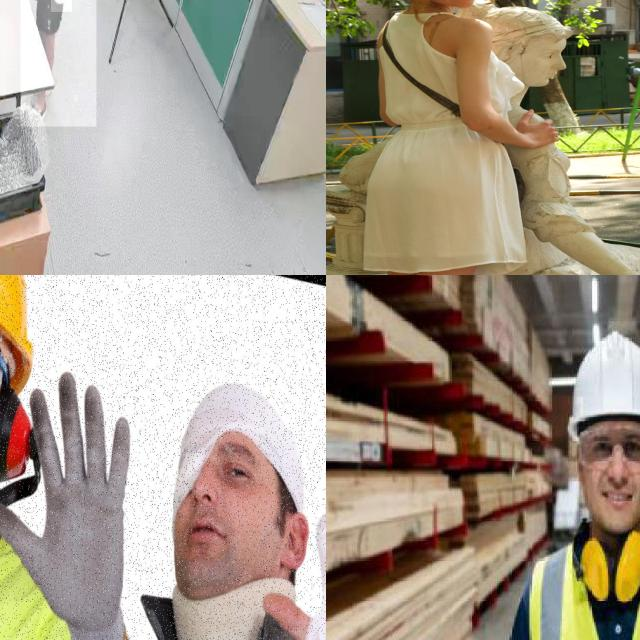Ear-protection: (0, 321, 41, 509), (565, 519, 640, 607)
glasses: (575, 426, 640, 475)
head_helmet: (557, 327, 640, 443)
head_nohelmet: (169, 374, 313, 536)
person: (139, 311, 326, 640), (474, 301, 640, 640), (20, 0, 97, 127)
vest: (522, 538, 640, 640)
